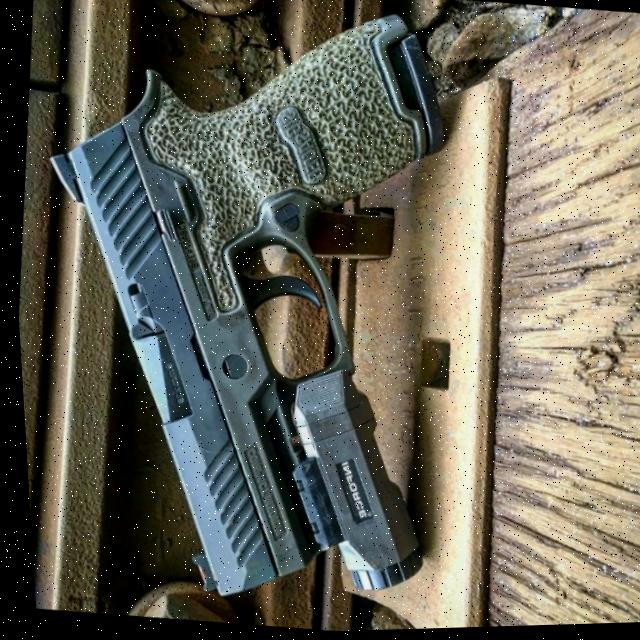pistol: (0, 0, 484, 626)
